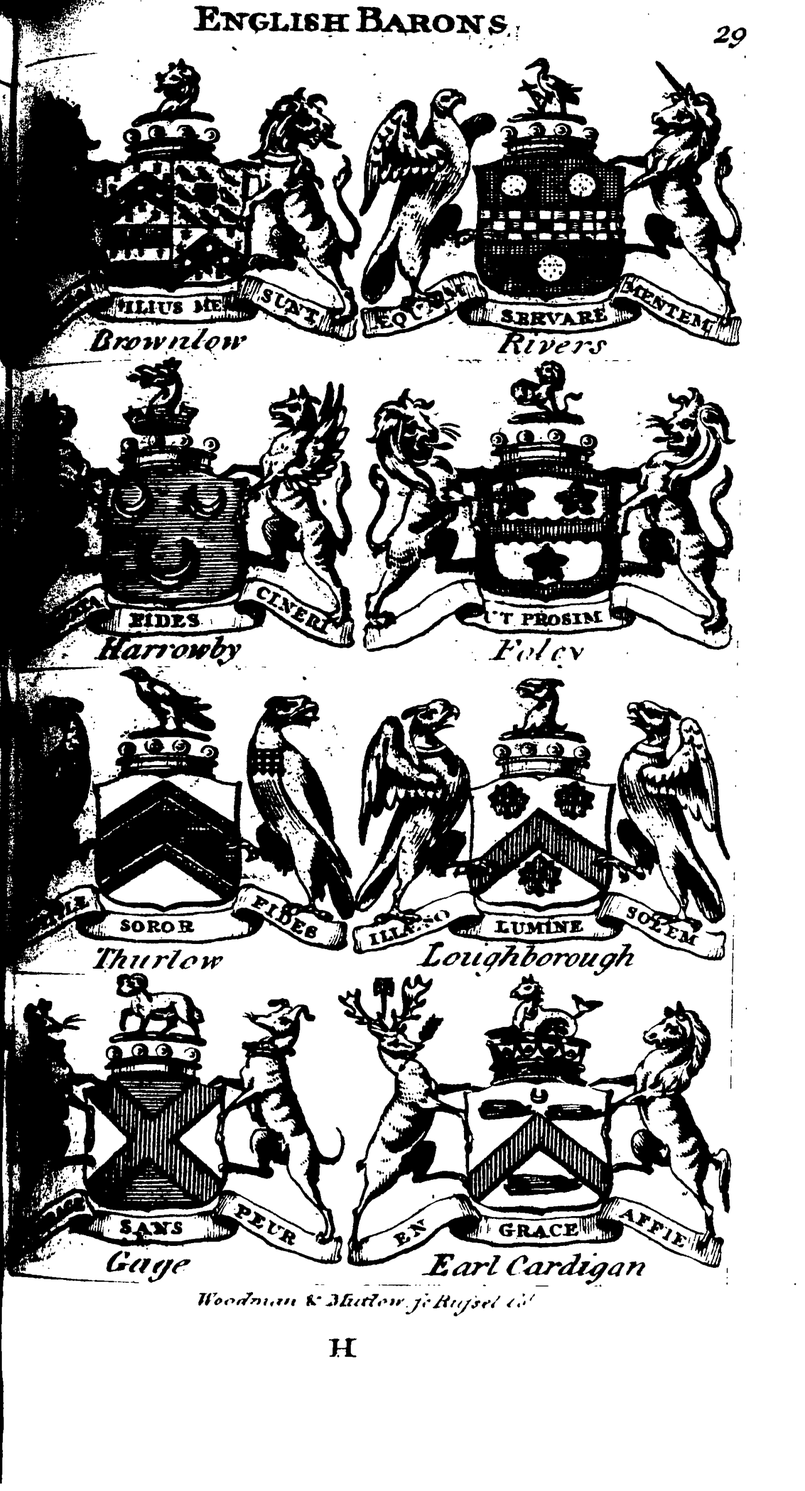coat_of_arms: (345, 962, 750, 1290), (354, 60, 749, 377), (354, 662, 754, 971), (363, 369, 742, 667), (21, 363, 363, 683), (14, 974, 336, 1299), (28, 60, 356, 374), (39, 671, 354, 981)
